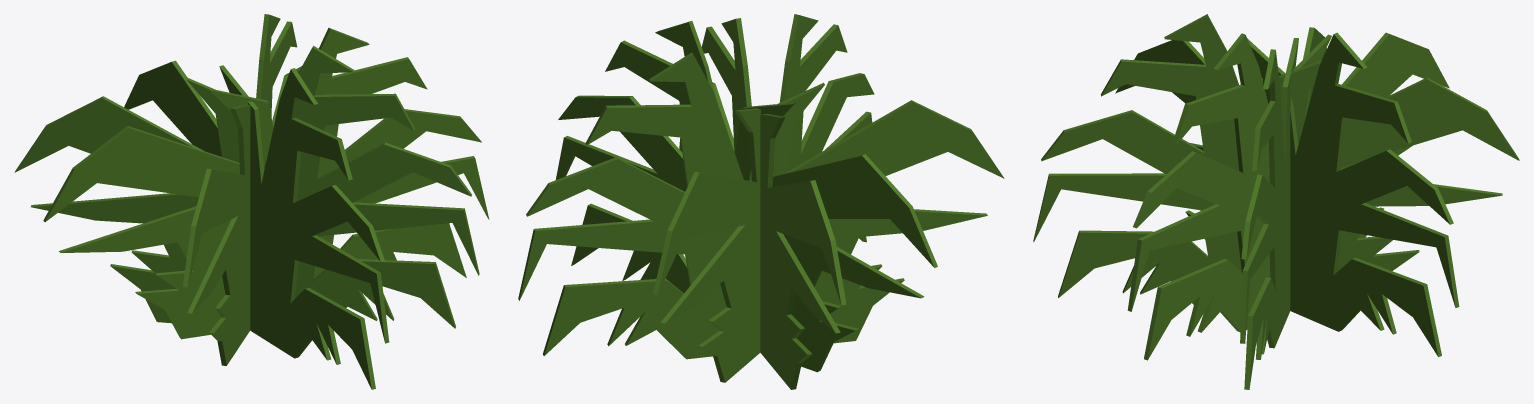
The model's file is grass game.fbx.
3 views of the same model, side by side, from view 1: azimuth 30°, elevation 25°; view 2: azimuth 150°, elevation 25°; view 3: azimuth 270°, elevation 25° (orthographic). The views are drawn at different scales.
Visible parts, largest first — view 1: Plane.003, Plane.001, Plane, Plane.002; view 2: Plane.002, Plane.001, Plane, Plane.003; view 3: Plane, Plane.002, Plane.003, Plane.001.
Part boxes in pixels (<box>): Plane.003: <box>14,45,479,328</box>; Plane.001: <box>43,27,489,339</box>; Plane: <box>124,60,389,389</box>; Plane.002: <box>183,14,301,365</box>; Plane.002: <box>518,52,1004,359</box>; Plane.001: <box>556,21,937,372</box>; Plane: <box>653,14,874,382</box>; Plane.003: <box>679,18,846,389</box>; Plane: <box>1033,14,1519,304</box>; Plane.002: <box>1115,32,1459,356</box>; Plane.003: <box>1127,32,1449,360</box>; Plane.001: <box>1240,27,1326,389</box>.
Bounding box in the file's own units: 91.99 × 62.49 × 93.12.
